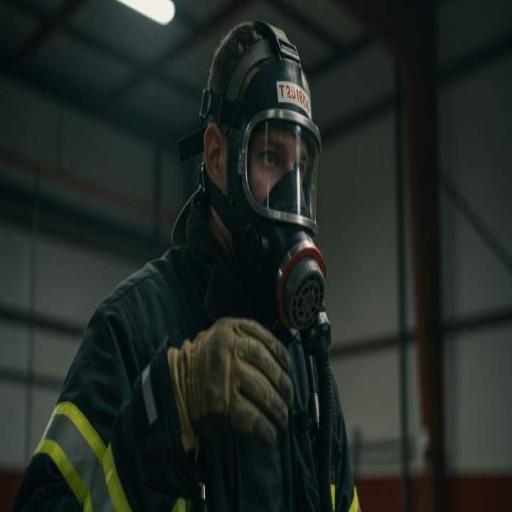mask: (215, 56, 354, 328)
